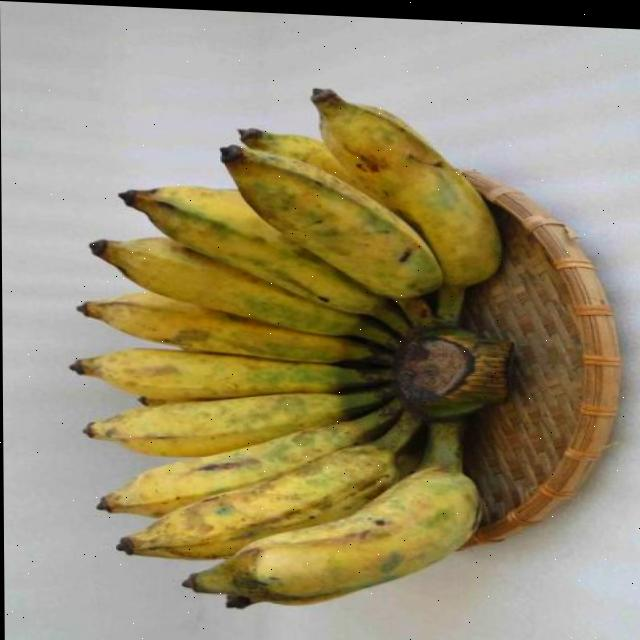banana: (63, 70, 543, 622)
